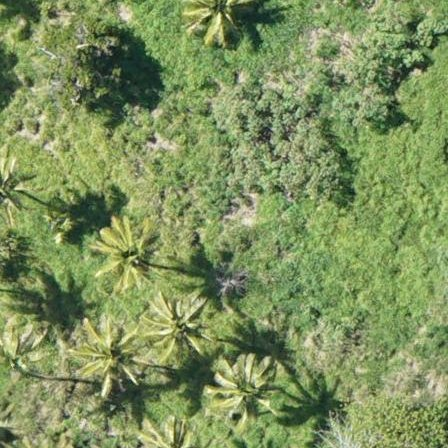palm_tree: (88, 211, 162, 290), (73, 315, 145, 396), (208, 357, 278, 425), (146, 294, 209, 361), (180, 1, 261, 50), (1, 323, 46, 381)
